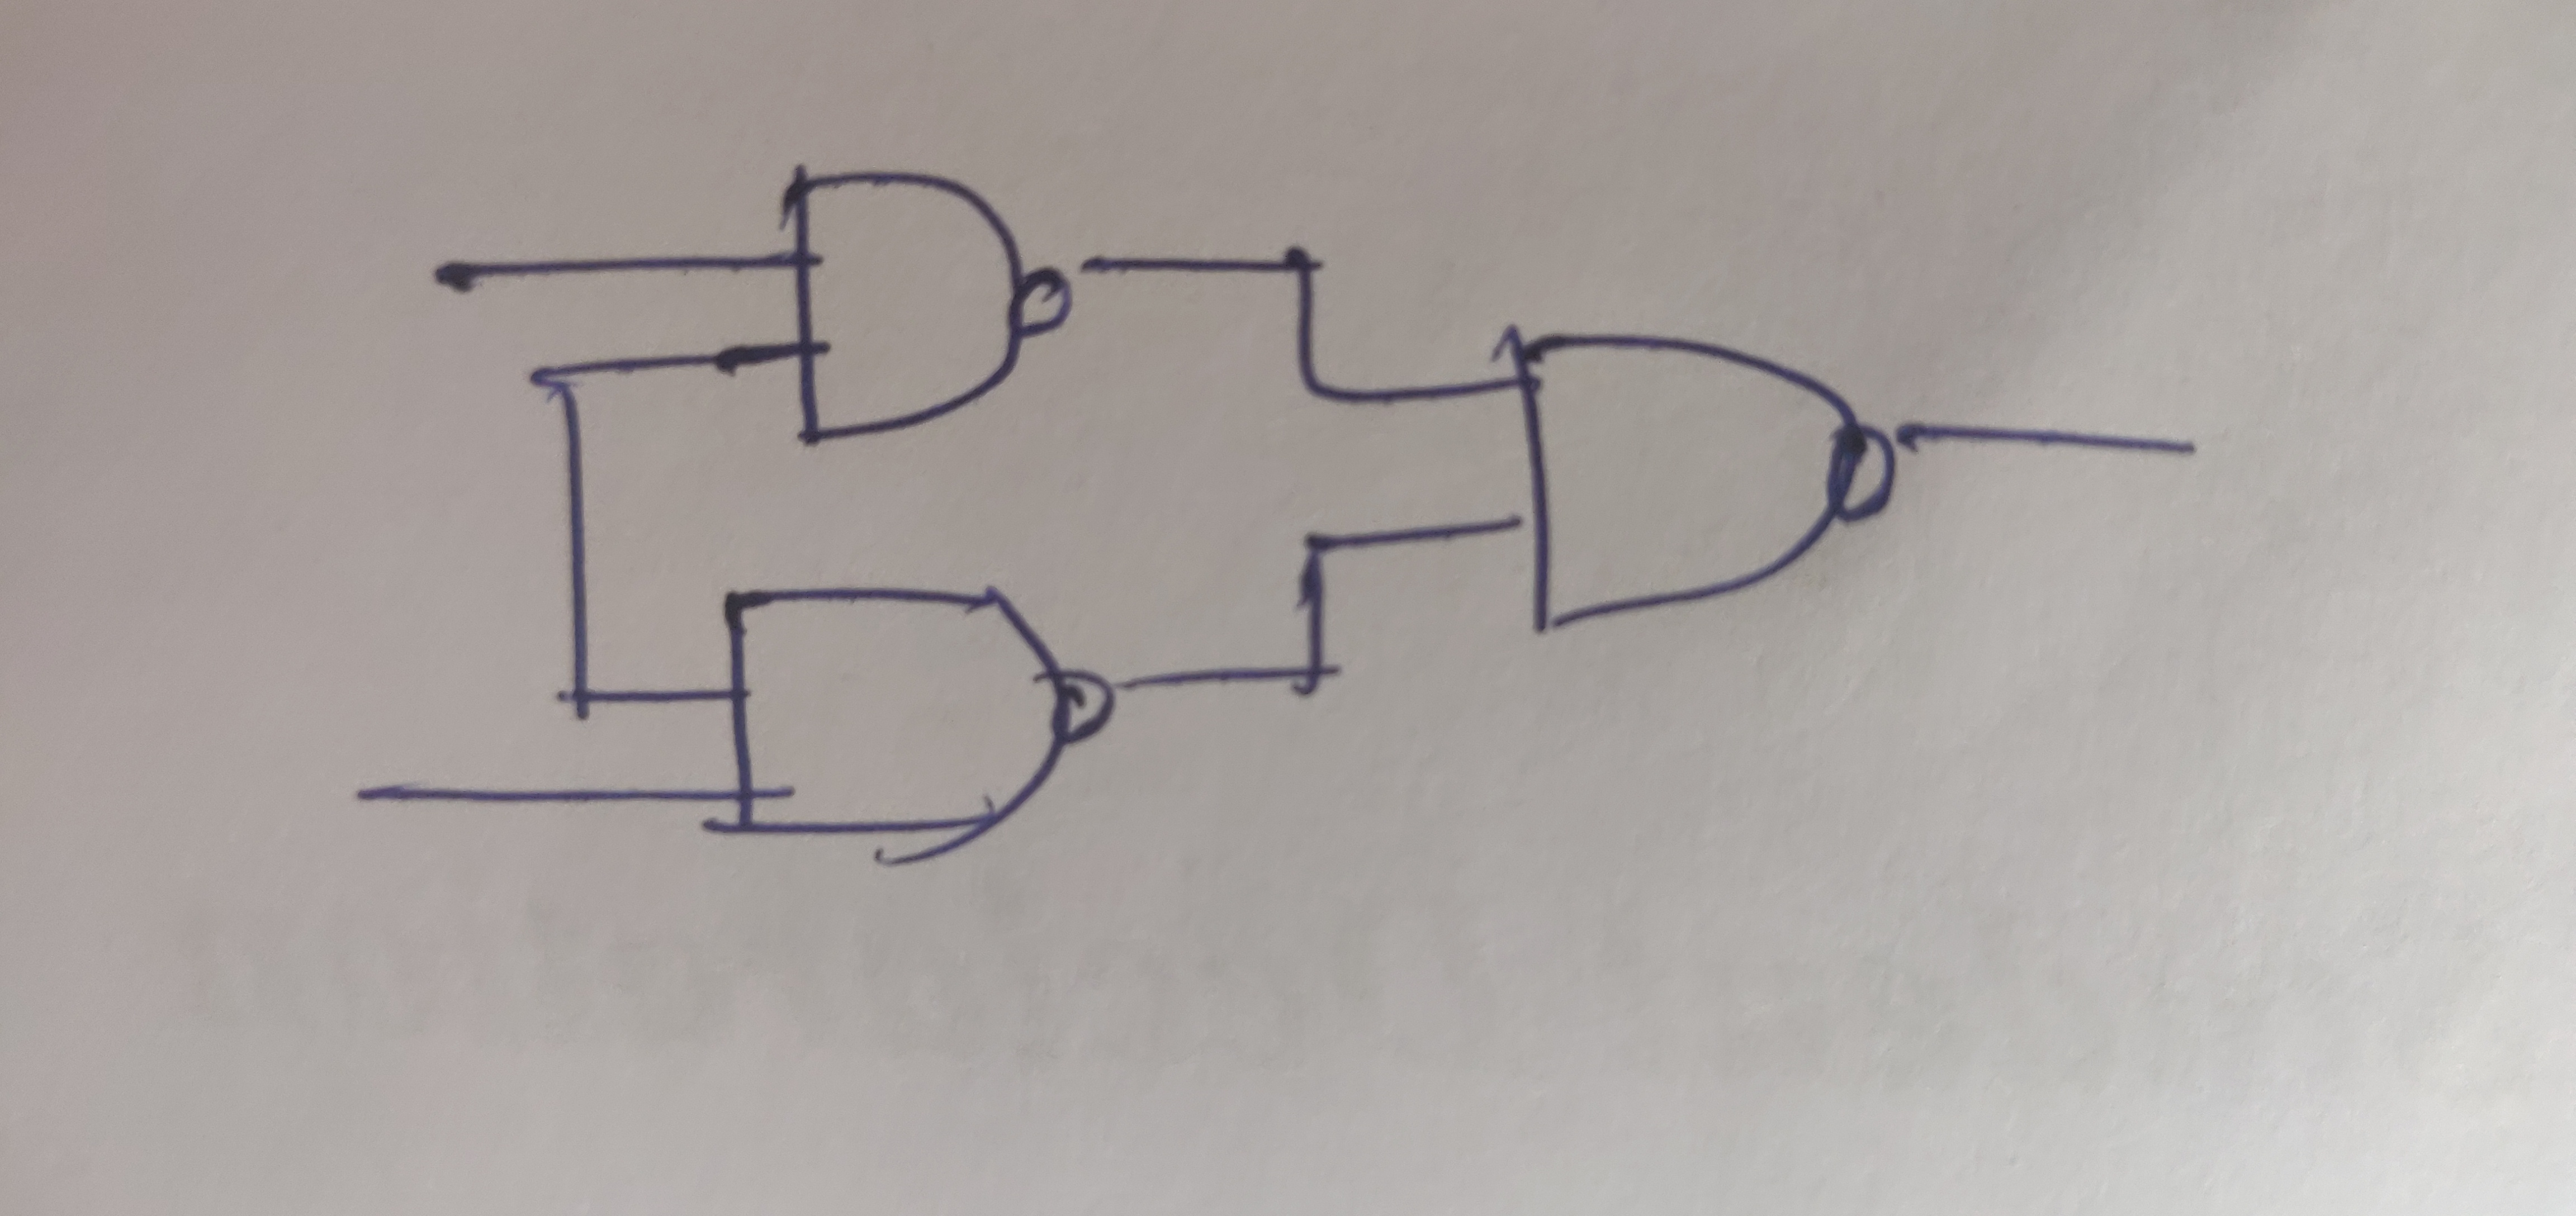nand: (1442, 279, 1965, 693), (675, 555, 1157, 910), (757, 145, 1147, 493)
